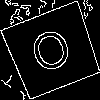O: (27, 26, 78, 84)
